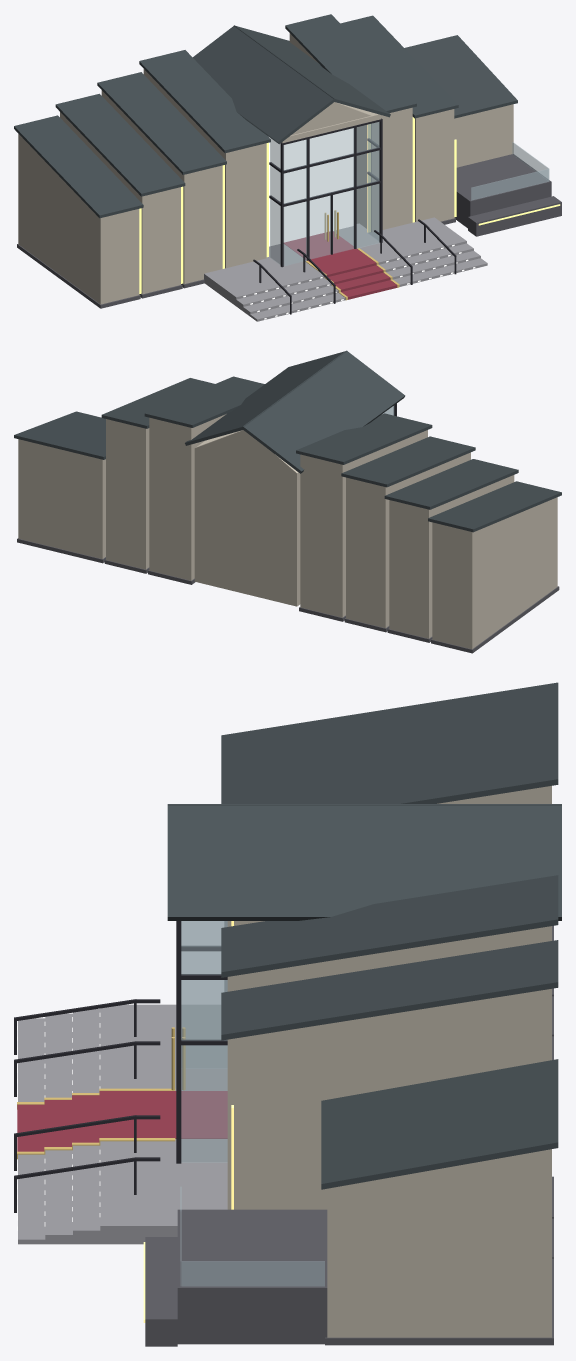
The model's file is WChewsFront_01.glb.
The picture shows the model from 3 angles, top to bottom: view 1: azimuth 30°, elevation 25°; view 2: azimuth 150°, elevation 25°; view 3: azimuth 270°, elevation 25°; orthographic projection. The views are drawn at different scales.
Parts seen in each view (by area): view 1: WChewsFront_Roofs, WChewsFront_Walls, WChewsFront_Steps, WChewsFront_Glass, WChewsFront_Inside, WChewsFront_Base, WChewsFront_Carpet, WChewsFront_Mullions, WChewsFront_Door, WChewsFront_Strips, WChewsFront_Rails, WChewsFront_Brass; view 2: WChewsFront_Walls, WChewsFront_Roofs, WChewsFront_Base; view 3: WChewsFront_Roofs, WChewsFront_Walls, WChewsFront_Steps, WChewsFront_Base, WChewsFront_Glass, WChewsFront_Carpet, WChewsFront_Rails, WChewsFront_Mullions, WChewsFront_Brass.
Boxes of the visible parts, left/top/right/bottom form: WChewsFront_Roofs: left=14, top=14, right=517, bottom=218; WChewsFront_Walls: left=18, top=33, right=513, bottom=304; WChewsFront_Steps: left=204, top=217, right=487, bottom=321; WChewsFront_Glass: left=270, top=122, right=549, bottom=265; WChewsFront_Inside: left=269, top=128, right=353, bottom=246; WChewsFront_Base: left=17, top=154, right=561, bottom=308; WChewsFront_Carpet: left=284, top=231, right=397, bottom=299; WChewsFront_Mullions: left=269, top=118, right=382, bottom=267; WChewsFront_Door: left=309, top=190, right=354, bottom=258; WChewsFront_Strips: left=139, top=117, right=560, bottom=293; WChewsFront_Rails: left=253, top=219, right=456, bottom=314; WChewsFront_Brass: left=305, top=210, right=399, bottom=300; WChewsFront_Walls: left=18, top=414, right=557, bottom=649; WChewsFront_Roofs: left=14, top=350, right=561, bottom=532; WChewsFront_Base: left=17, top=538, right=559, bottom=653; WChewsFront_Roofs: left=167, top=682, right=561, bottom=1189; WChewsFront_Walls: left=227, top=786, right=551, bottom=1337; WChewsFront_Steps: left=18, top=1004, right=227, bottom=1244; WChewsFront_Base: left=145, top=921, right=553, bottom=1346; WChewsFront_Glass: left=180, top=921, right=324, bottom=1286; WChewsFront_Carpet: left=17, top=1091, right=227, bottom=1151; WChewsFront_Rails: left=14, top=999, right=160, bottom=1212; WChewsFront_Mullions: left=176, top=921, right=227, bottom=1163; WChewsFront_Brass: left=17, top=1027, right=185, bottom=1159.
Size of the model in its own units: 80.8 by 29.11 by 43.92.
